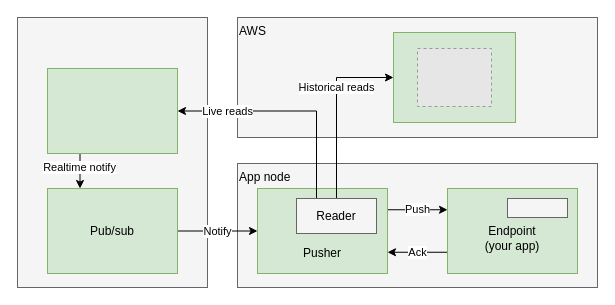
Some shapes in this 615 by 305 pixel diagram are drawn without their labels. Grey dashed boxes stand in for pictures. The box of each missing label's shape, as (x1, y1, x2, y2) in pixels:
pushlib: (506, 198, 568, 218)
Server node: (16, 16, 208, 288)
Writer: (46, 68, 178, 154)
